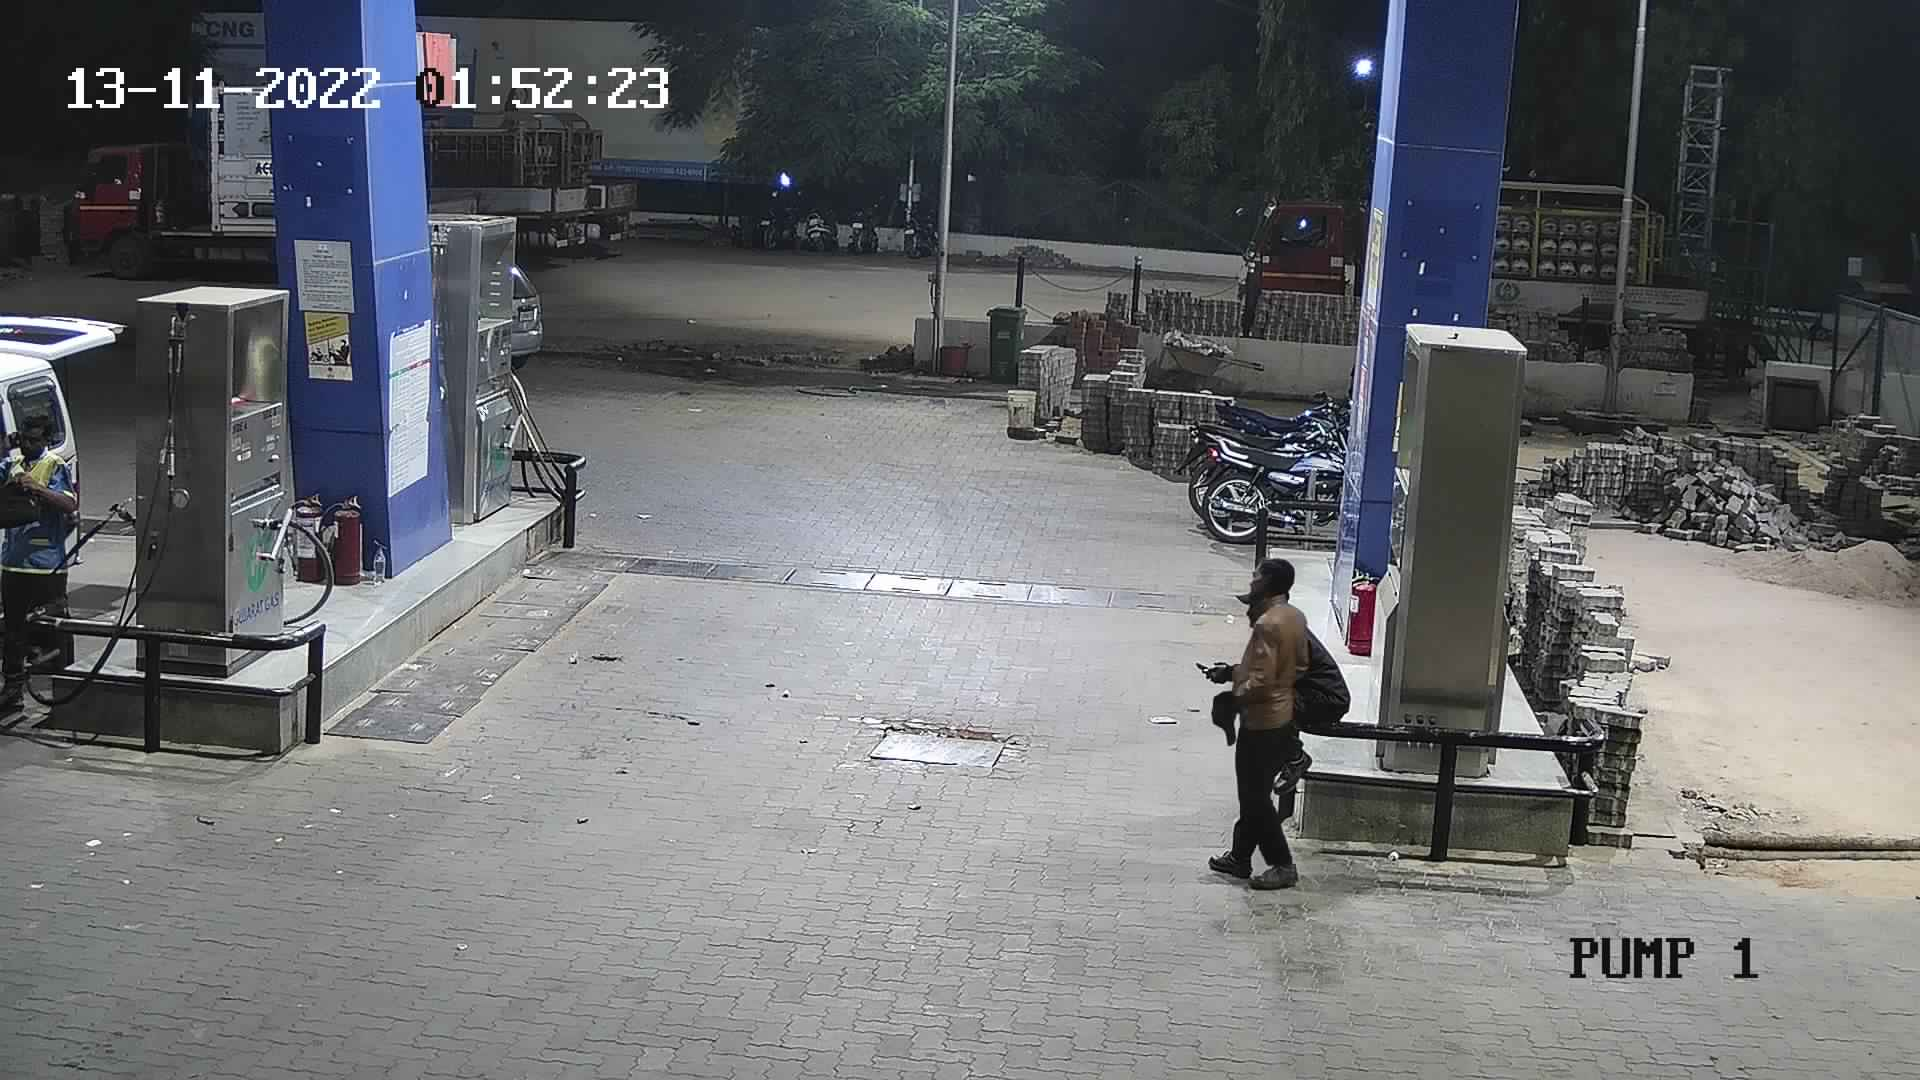Bike: (1179, 388, 1356, 558), (741, 181, 802, 262), (891, 194, 944, 264), (837, 191, 891, 258), (795, 189, 848, 255)
Car: (1, 284, 140, 690), (498, 252, 563, 382)
HMV: (53, 69, 280, 276), (405, 80, 644, 264), (1222, 170, 1383, 340)
Others: (0, 405, 88, 727)
